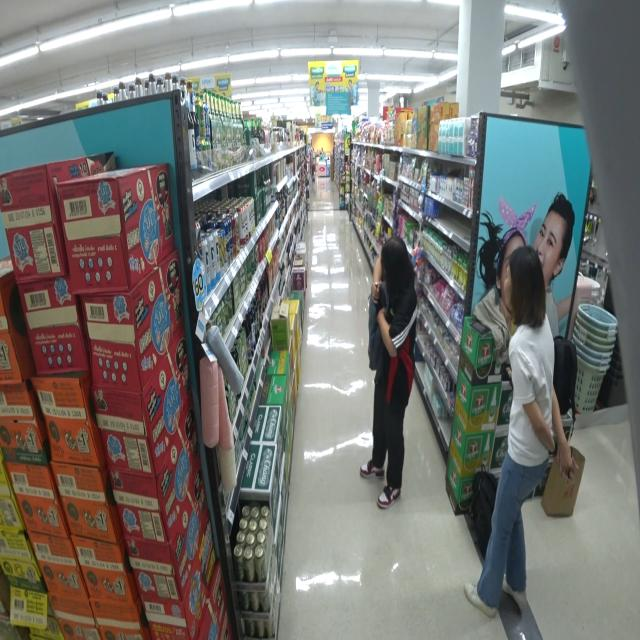shoplifting: (364, 235, 415, 514)
